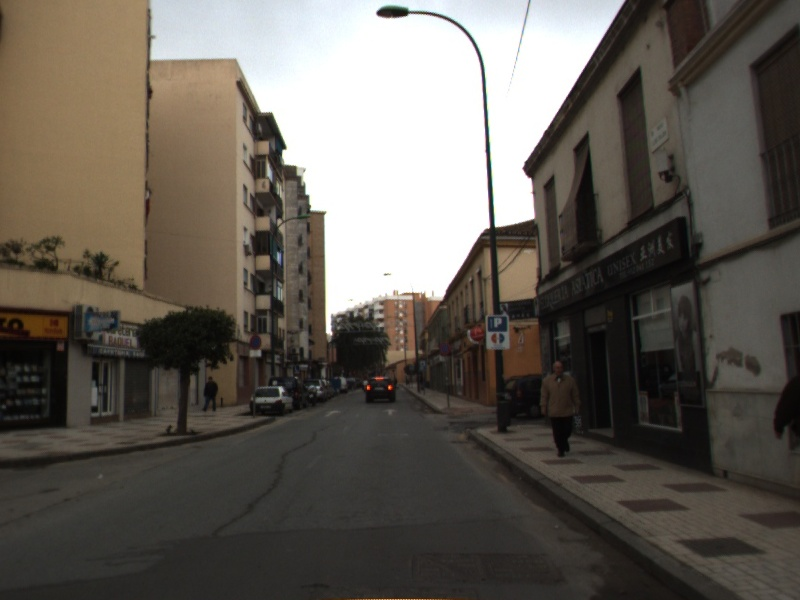STRAIGHT: (322, 408, 343, 418), (381, 406, 400, 417)
